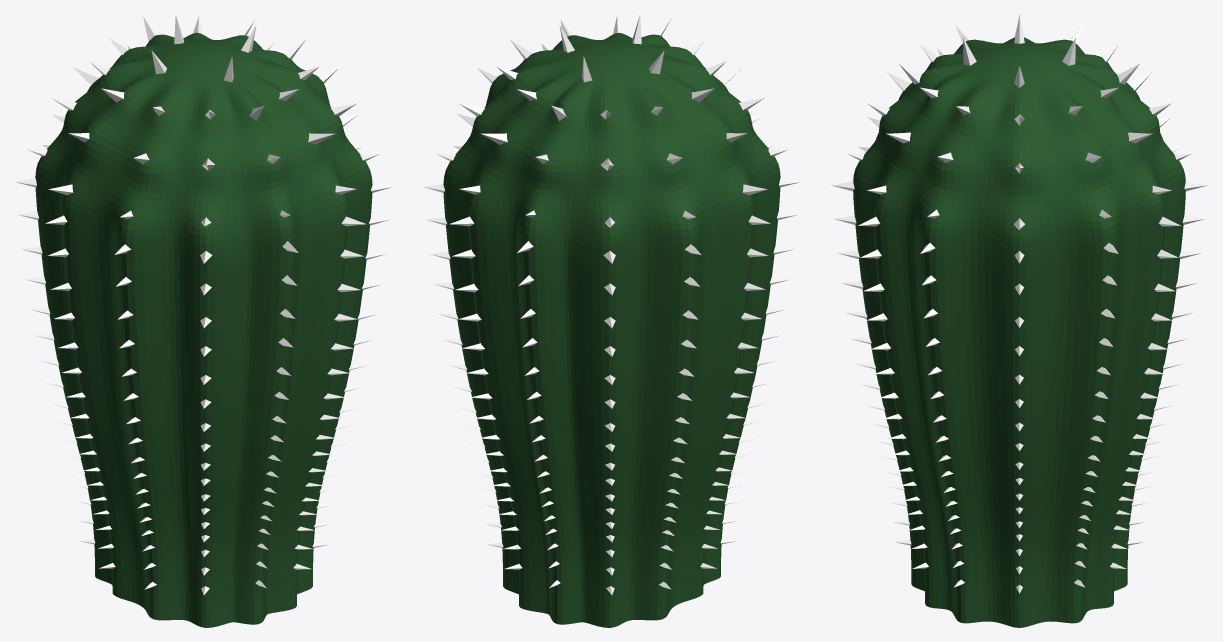
File: goofy_cactus.fbx
3 renders of one model, left to right at view 1: azimuth 30°, elevation 25°; view 2: azimuth 150°, elevation 25°; view 3: azimuth 270°, elevation 25°, orthographic.
Parts seen in each view (by area): view 1: Sphere.001; view 2: Sphere.001; view 3: Sphere.001.
Boxes of the visible parts, <box> form: Sphere.001: <box>15,15,392,627</box>; Sphere.001: <box>423,15,800,627</box>; Sphere.001: <box>830,14,1208,627</box>.
Size of the model in its own units: 388 by 639 by 401.
